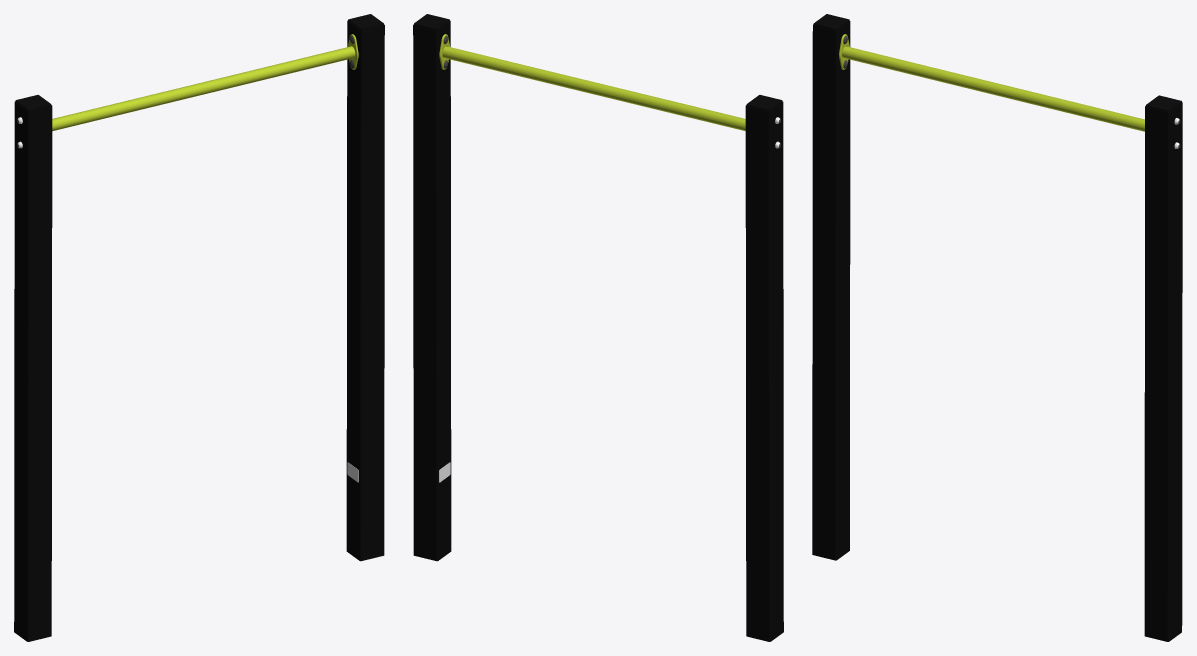
3 renders of one model, left to right at view 1: azimuth 30°, elevation 25°; view 2: azimuth 150°, elevation 25°; view 3: azimuth 330°, elevation 25°, orthographic.
Visible parts, largest first — view 1: Component_23, Component_24, Component_4; view 2: Component_23, Component_24, Component_4; view 3: Component_24, Component_23, Component_4.
Part boxes in pixels (x1,y1,x2,y2): Component_23: (14,101,52,641); Component_24: (346,20,384,561); Component_4: (52,46,355,131); Component_23: (745,101,783,641); Component_24: (413,20,451,561); Component_4: (442,46,745,131); Component_24: (1144,102,1182,641); Component_23: (812,21,850,560); Component_4: (842,46,1144,131).
Size of the model in its own units: 58.19 by 3.94 by 81.24.
